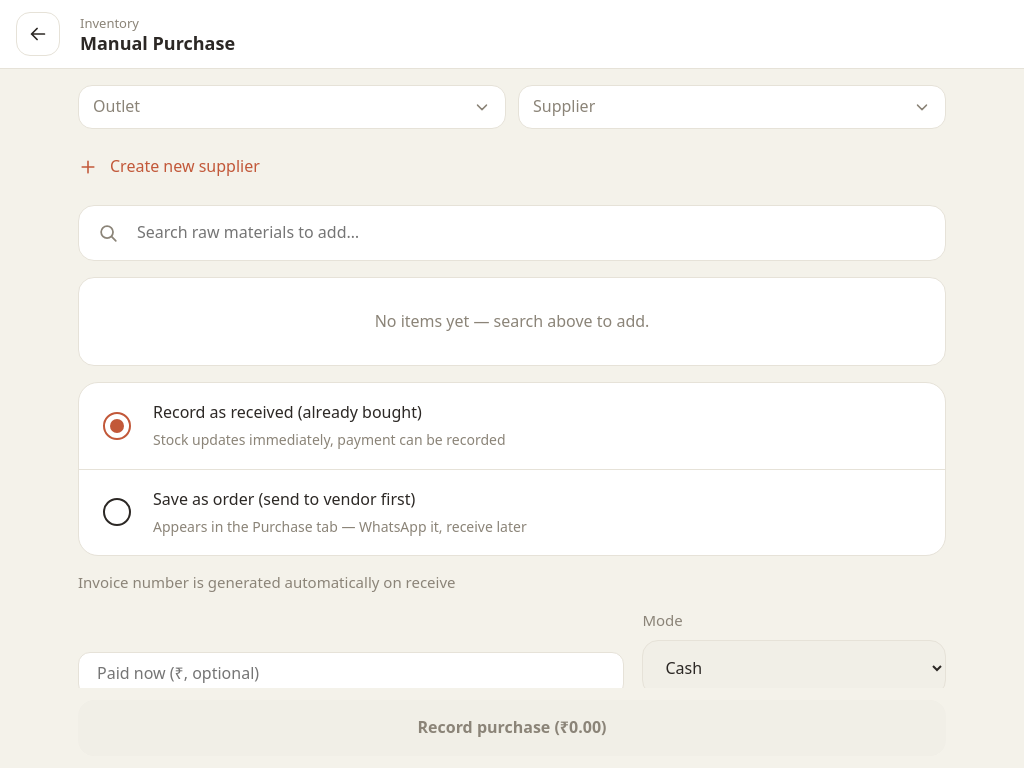
Test case: Manual Purchase screen › MPW-5. creates a supplier: save waits for name and number, then the new one is chosen
The width and height of the screenshot is (1024, 768).
Step 1. Click the button "Create new supplier" → (169, 167), box [78,145,260,189]
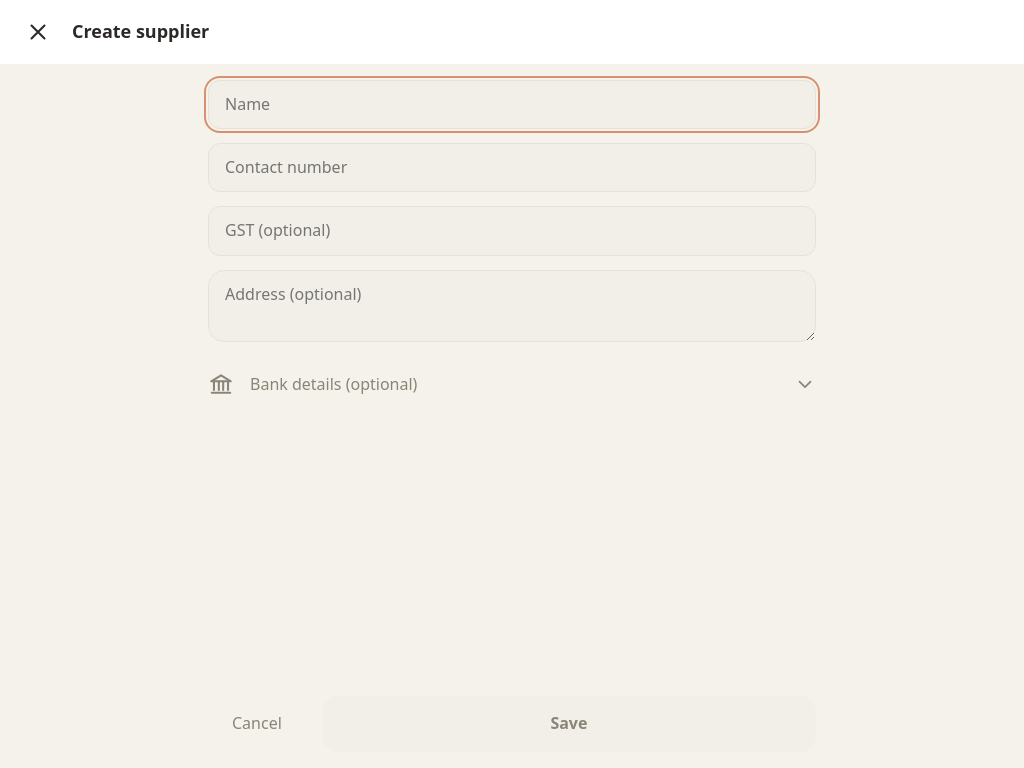
Expected: the button "Save" is disabled, [322,696,816,752]
Step 2. Type "Fresh Farms" into the field with placeholder "Name" → (512, 105), box [208,80,816,129]
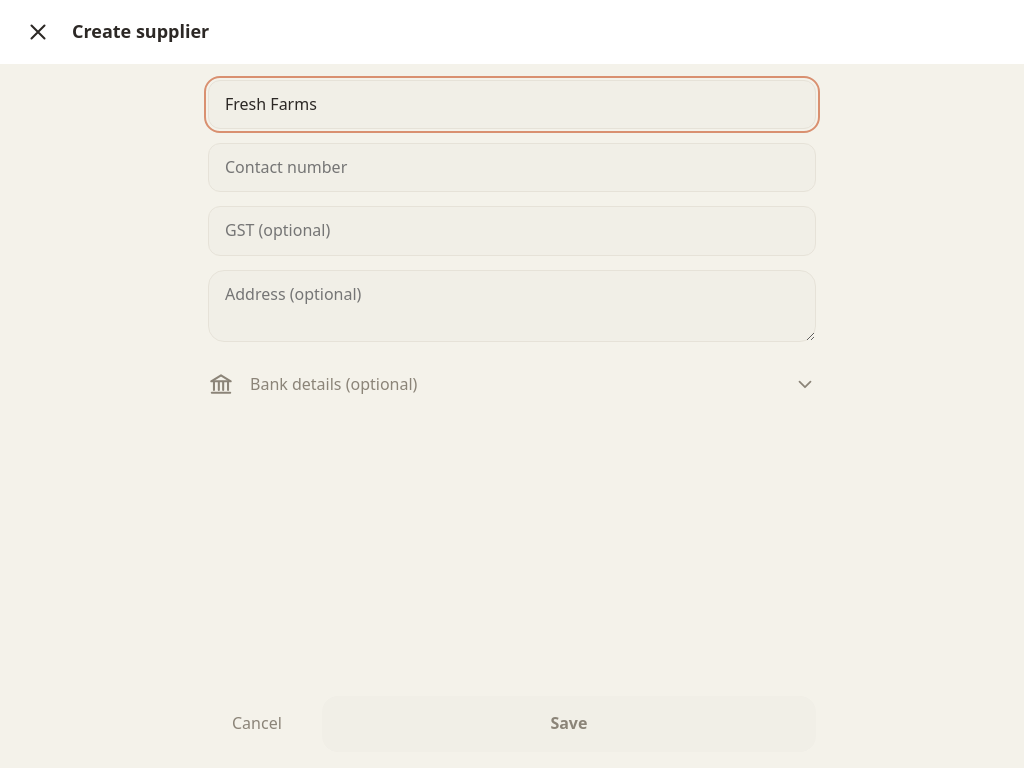
Expected: the button "Save" is disabled, [322,696,816,752]
Step 3. Type "9840012345" into the field with placeholder "Contact number" → (512, 168), box [208,143,816,192]
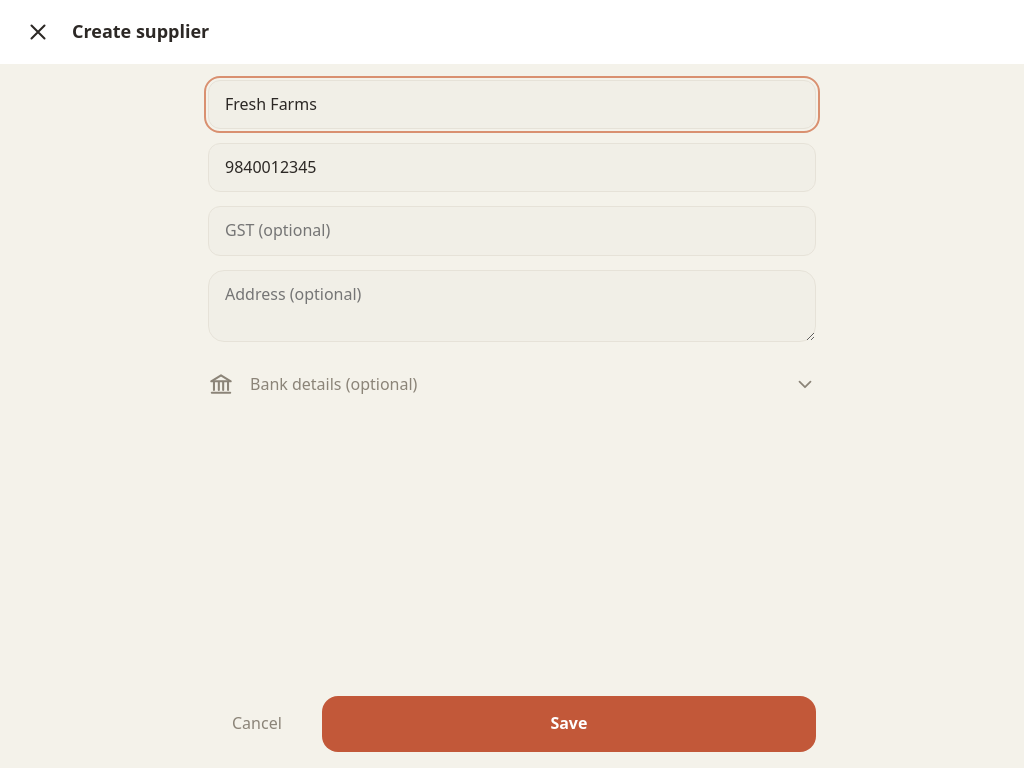
Expected: the button "Save" is enabled, [322,696,816,752]
Step 4. Click the button "Bank details (optional)" → (334, 384), box [208,362,816,406]
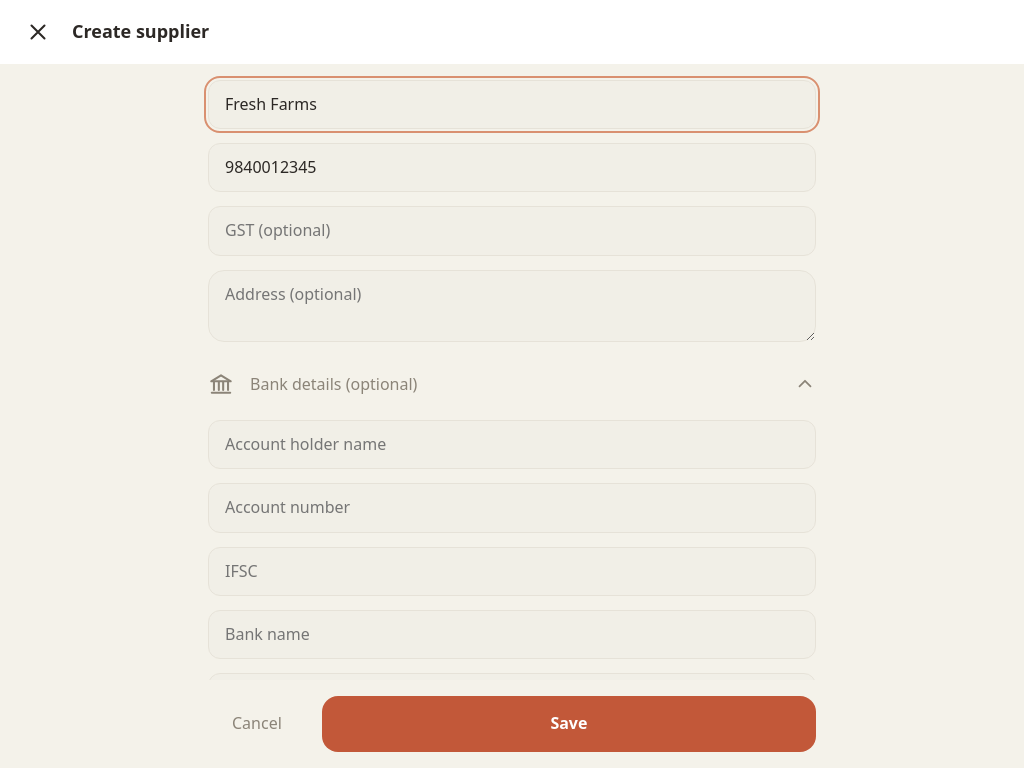
Step 5. Type "sbin0001234" into the field with placeholder "IFSC" → (512, 571), box [208,546,816,596]
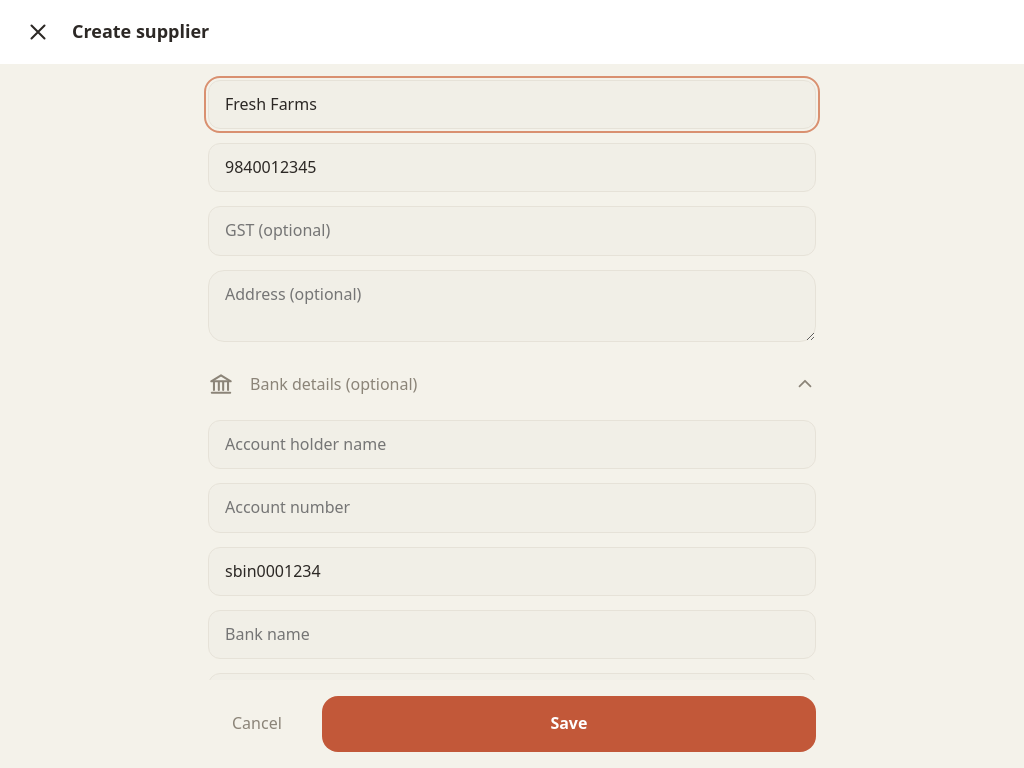
Step 6. Click the button "Save" → (569, 724), box [322,696,816,752]
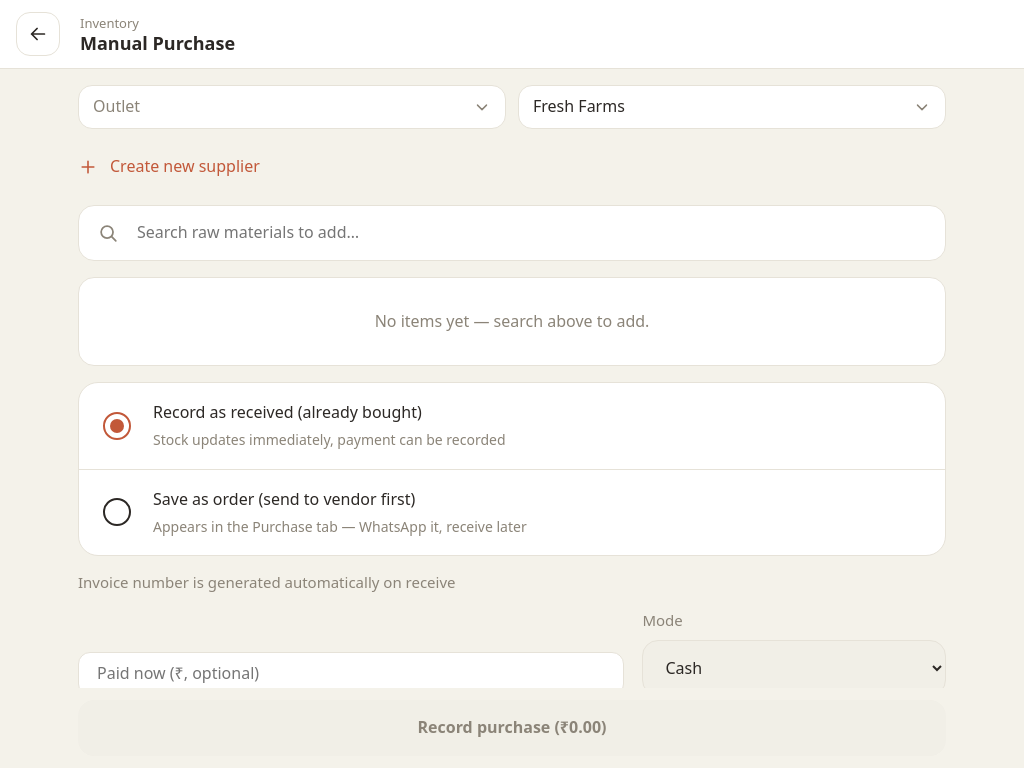
Expected: the heading "Create supplier" is gone
Expected: the button with aria-label "Supplier: Fresh Farms" is shown, [518,85,946,129]
